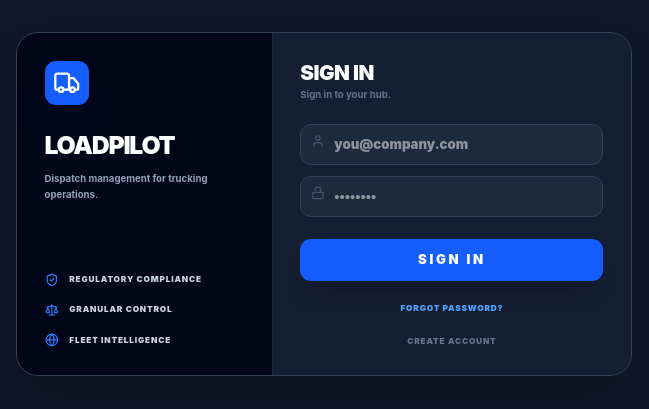
Test case: Auth component › Login form submission › shows error message on failed login
In the field with placeholder "you@company.com": (452, 145) [300,124,604,165], type "bad@test.com"
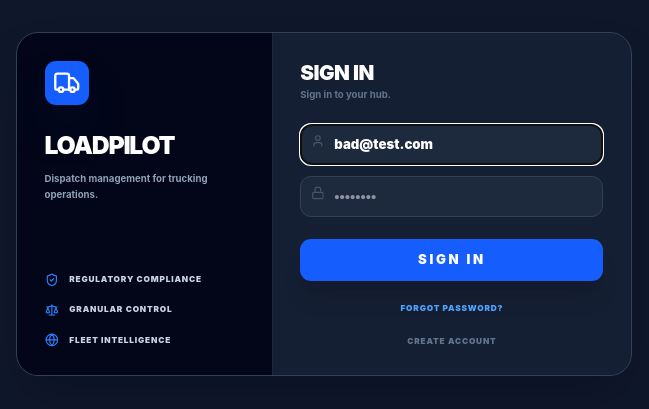
In the password field with placeholder "••••••••": (452, 197) [300,176,604,217], type "wrongpass"
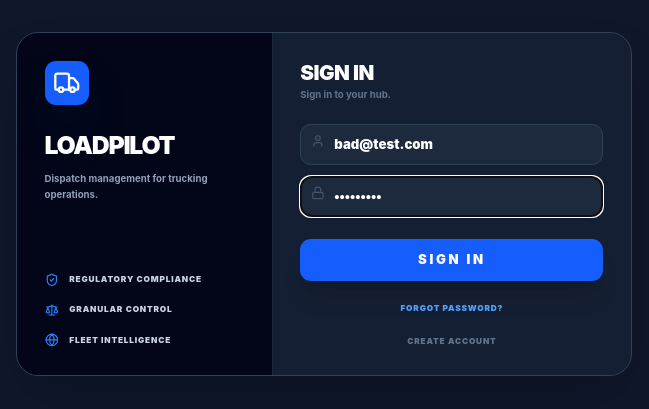
Click the button "Sign In": (452, 260) [300,239,604,281]
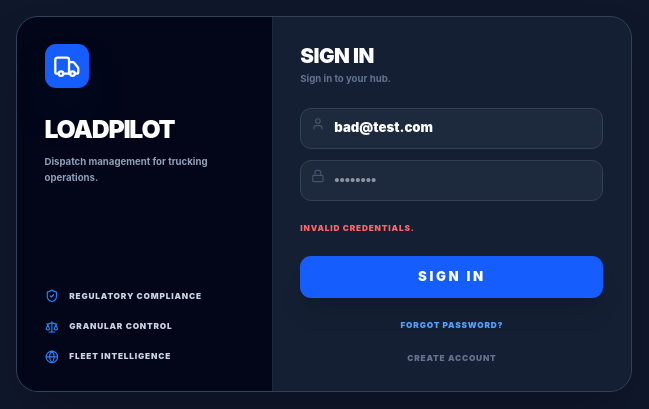
Result: the text "Invalid credentials." is shown at [300,223,415,233]
